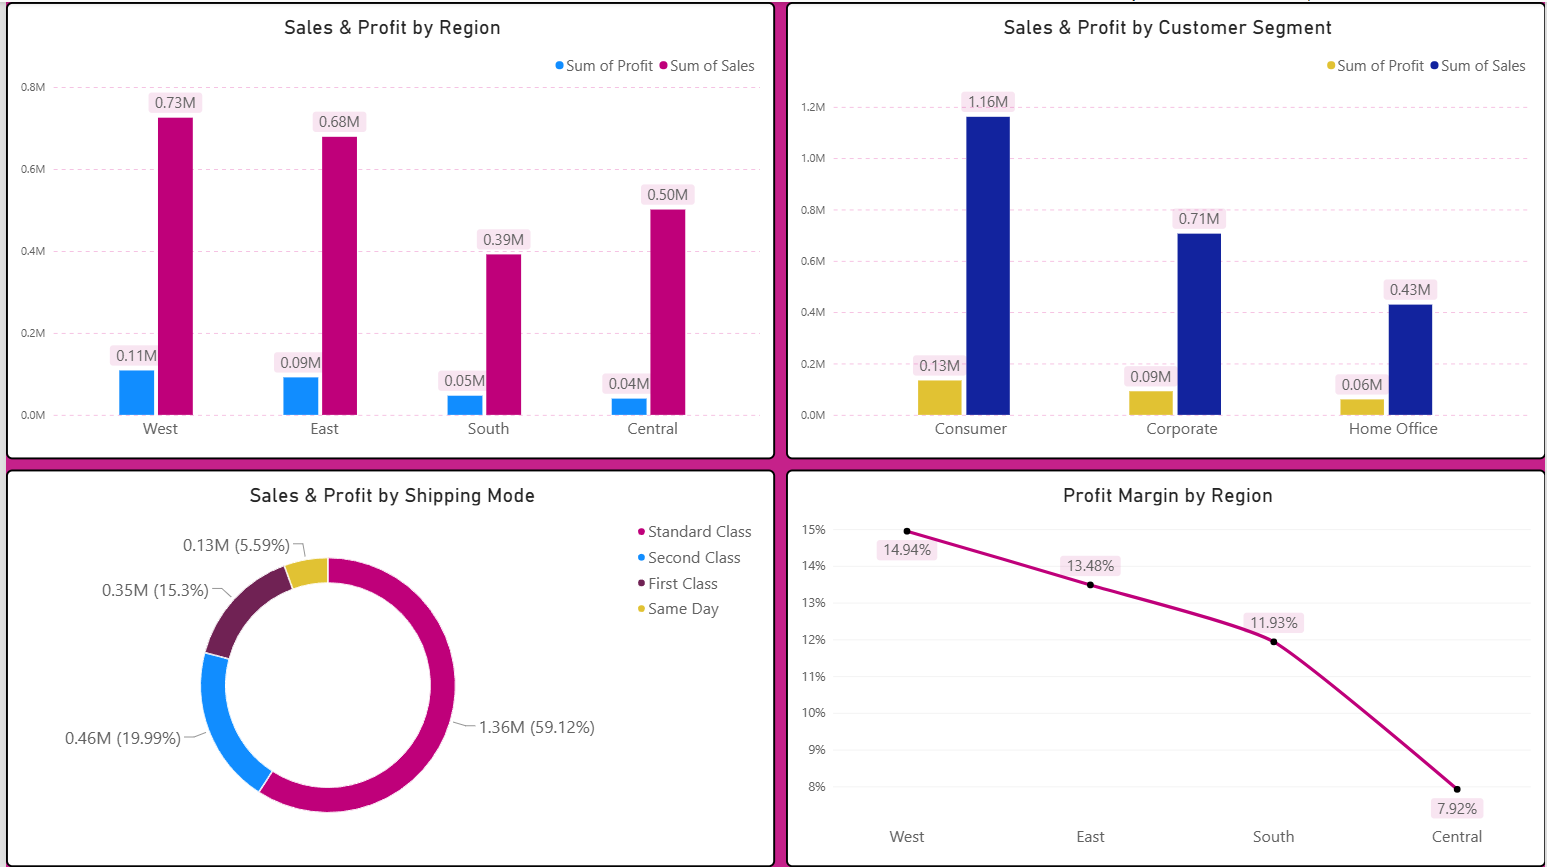

The page's visual inventory and layout, read from the dashboard file:
{"tool":"powerbi","page":{"name":"Business Performance","canvas":[1920,1080],"ordinal":2},"visuals":[{"type":"clusteredColumnChart","title":"Sales & Profit by Region","fields":{"Category":["csv cleaned sales profitability analysis.Region"],"Y":["Sum(csv cleaned sales profitability analysis.Profit)","Sum(csv cleaned sales profitability analysis.Sales)"]},"box":[0,0,959.3,570.4],"z":0},{"type":"clusteredColumnChart","title":"Sales & Profit by Customer Segment","fields":{"Category":["csv cleaned sales profitability analysis.Segment"],"Y":["Sum(csv cleaned sales profitability analysis.Profit)","Sum(csv cleaned sales profitability analysis.Sales)"]},"box":[972.2,0,948.1,570.4],"z":2},{"type":"donutChart","title":"Sales & Profit by Shipping Mode","fields":{"Category":["csv cleaned sales profitability analysis.Ship Mode"],"Y":["Sum(csv cleaned sales profitability analysis.Sales)"]},"box":[0,583.3,959.3,496.3],"z":3},{"type":"lineChart","title":"Profit Margin by Region","fields":{"Category":["csv cleaned sales profitability analysis.Region"],"Y":["csv cleaned sales profitability analysis.profit Margin dax"]},"box":[972.2,583.3,948.1,496.3],"z":4}]}

Visuals, with their boxes in screenshot pixels (x1, y1, x2, y2), scaled from the page's 1920x1080 canvas onto the 1547x867 screenshot:
"Sales & Profit by Region" clusteredColumnChart: locate(0, 0, 773, 458)
"Sales & Profit by Customer Segment" clusteredColumnChart: locate(783, 0, 1546, 458)
"Sales & Profit by Shipping Mode" donutChart: locate(0, 468, 773, 866)
"Profit Margin by Region" lineChart: locate(783, 468, 1546, 866)
